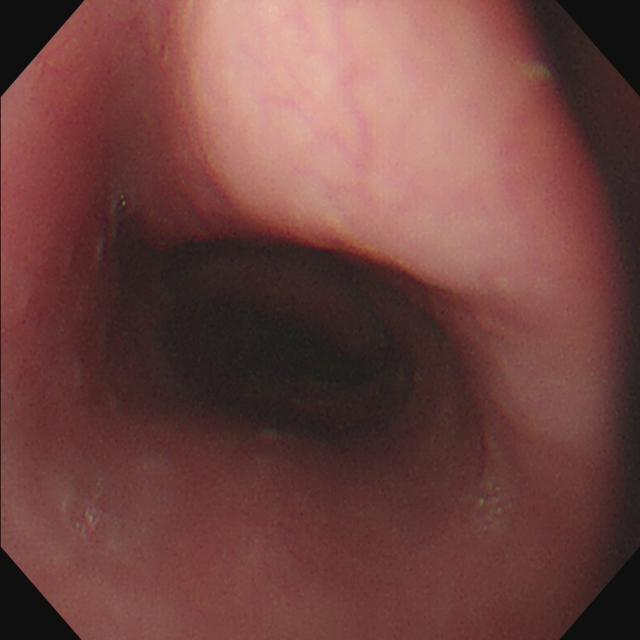E: (120, 232, 409, 436)
